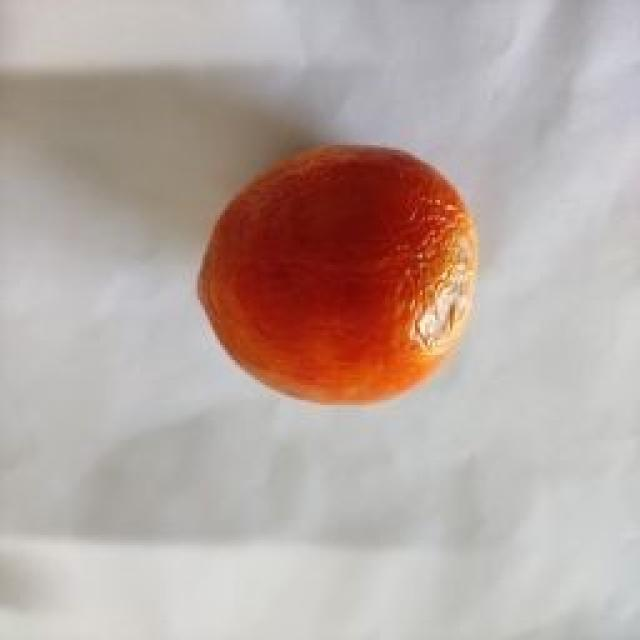overripe: (195, 145, 484, 405)
